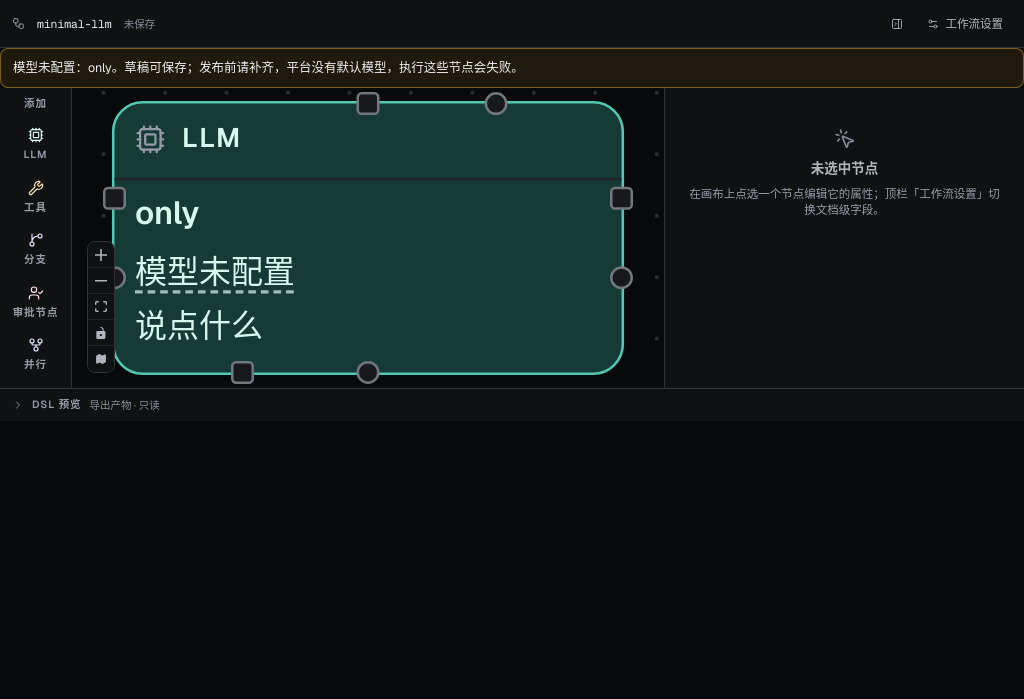
Test: CanvasEditor(画布 UI) › palette 加并行节点:基名 fan(词域合规)
Click the button "并行" at {"x": 36, "y": 355}, box [6,330,65,380]
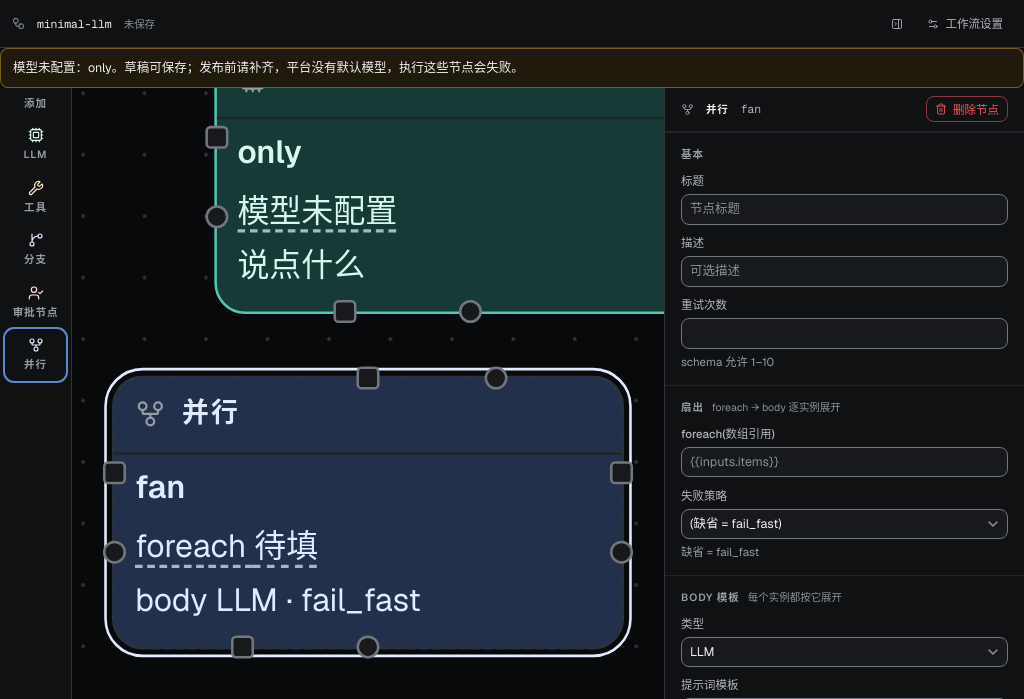
Expected: the text "fan" below "说点什么" is shown, [135,465,186,509]
Expected: the text "foreach 待填" is shown, [135,524,318,567]
